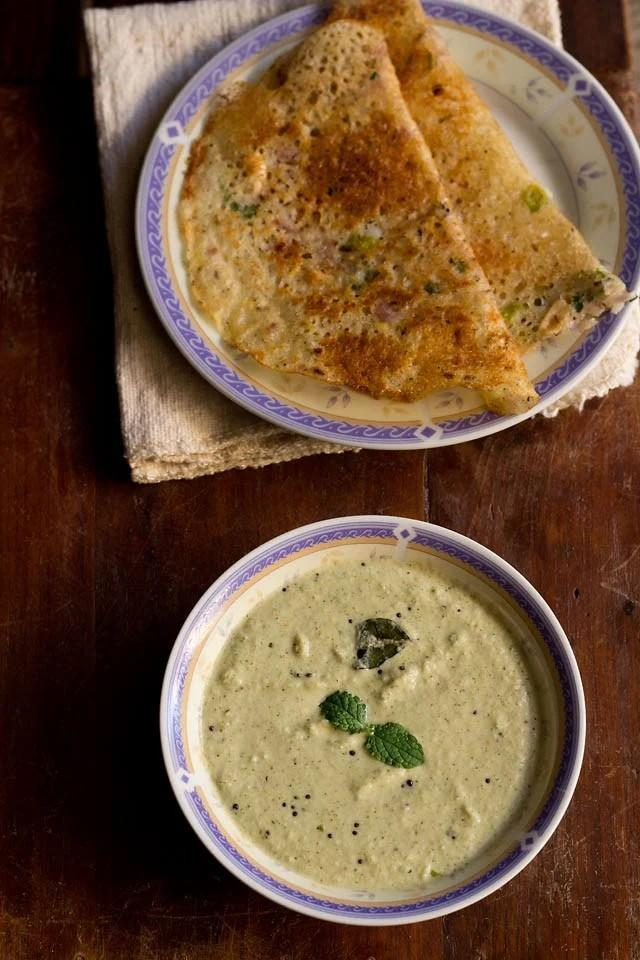CoconutChutney: (205, 557, 535, 887)
